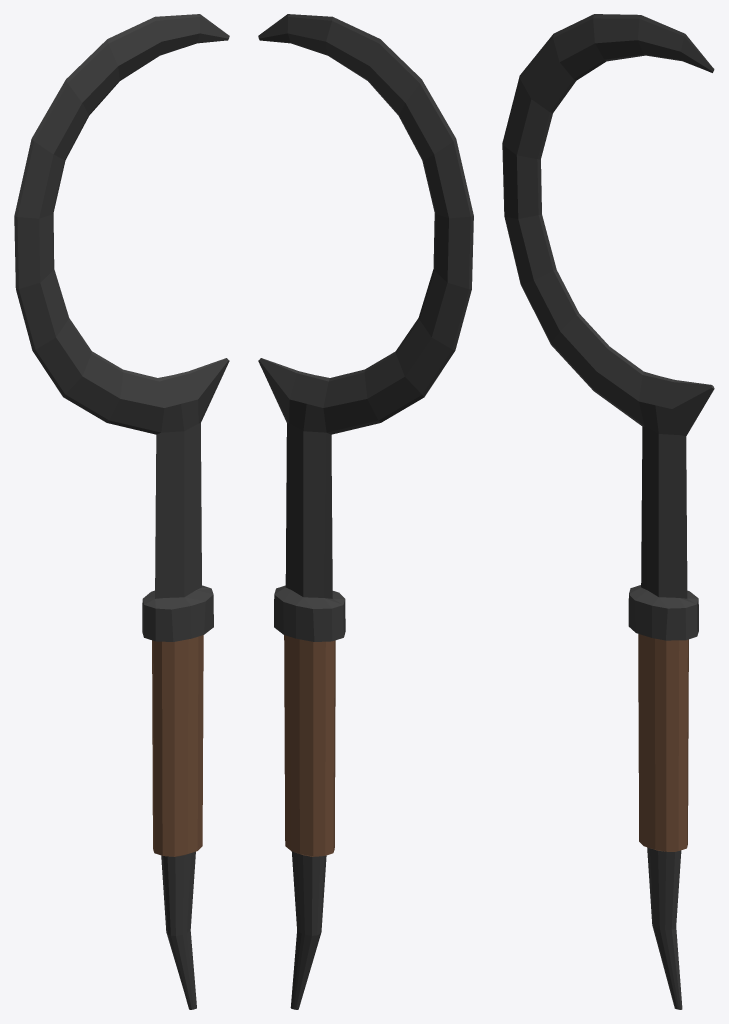
The model's file is Sickle.fbx.
3 renders of one model, left to right at view 1: azimuth 30°, elevation 25°; view 2: azimuth 150°, elevation 25°; view 3: azimuth 330°, elevation 25°, orthographic.
Parts seen in each view (by area): view 1: Sickle; view 2: Sickle; view 3: Sickle.
Part boxes in pixels (bbox=[...]): Sickle: bbox=[14, 14, 229, 1009]; Sickle: bbox=[258, 14, 473, 1009]; Sickle: bbox=[502, 14, 714, 1009].
Bounding box in the file's own units: 24.15 × 107 × 5.01.
